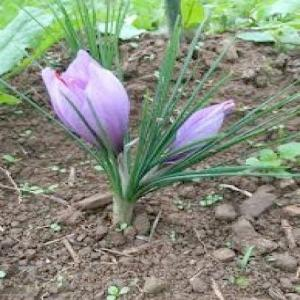Saffron: (44, 48, 130, 169), (150, 99, 235, 178)
